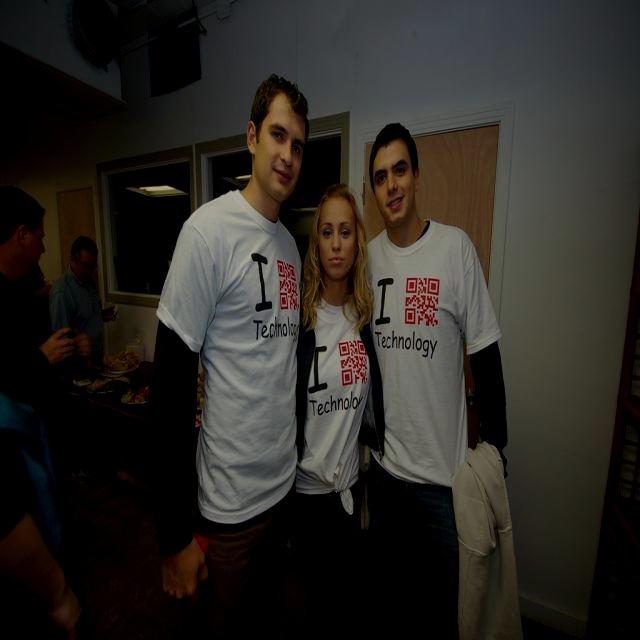qr-code: (404, 277, 440, 327), (338, 340, 368, 386), (276, 259, 299, 310)
